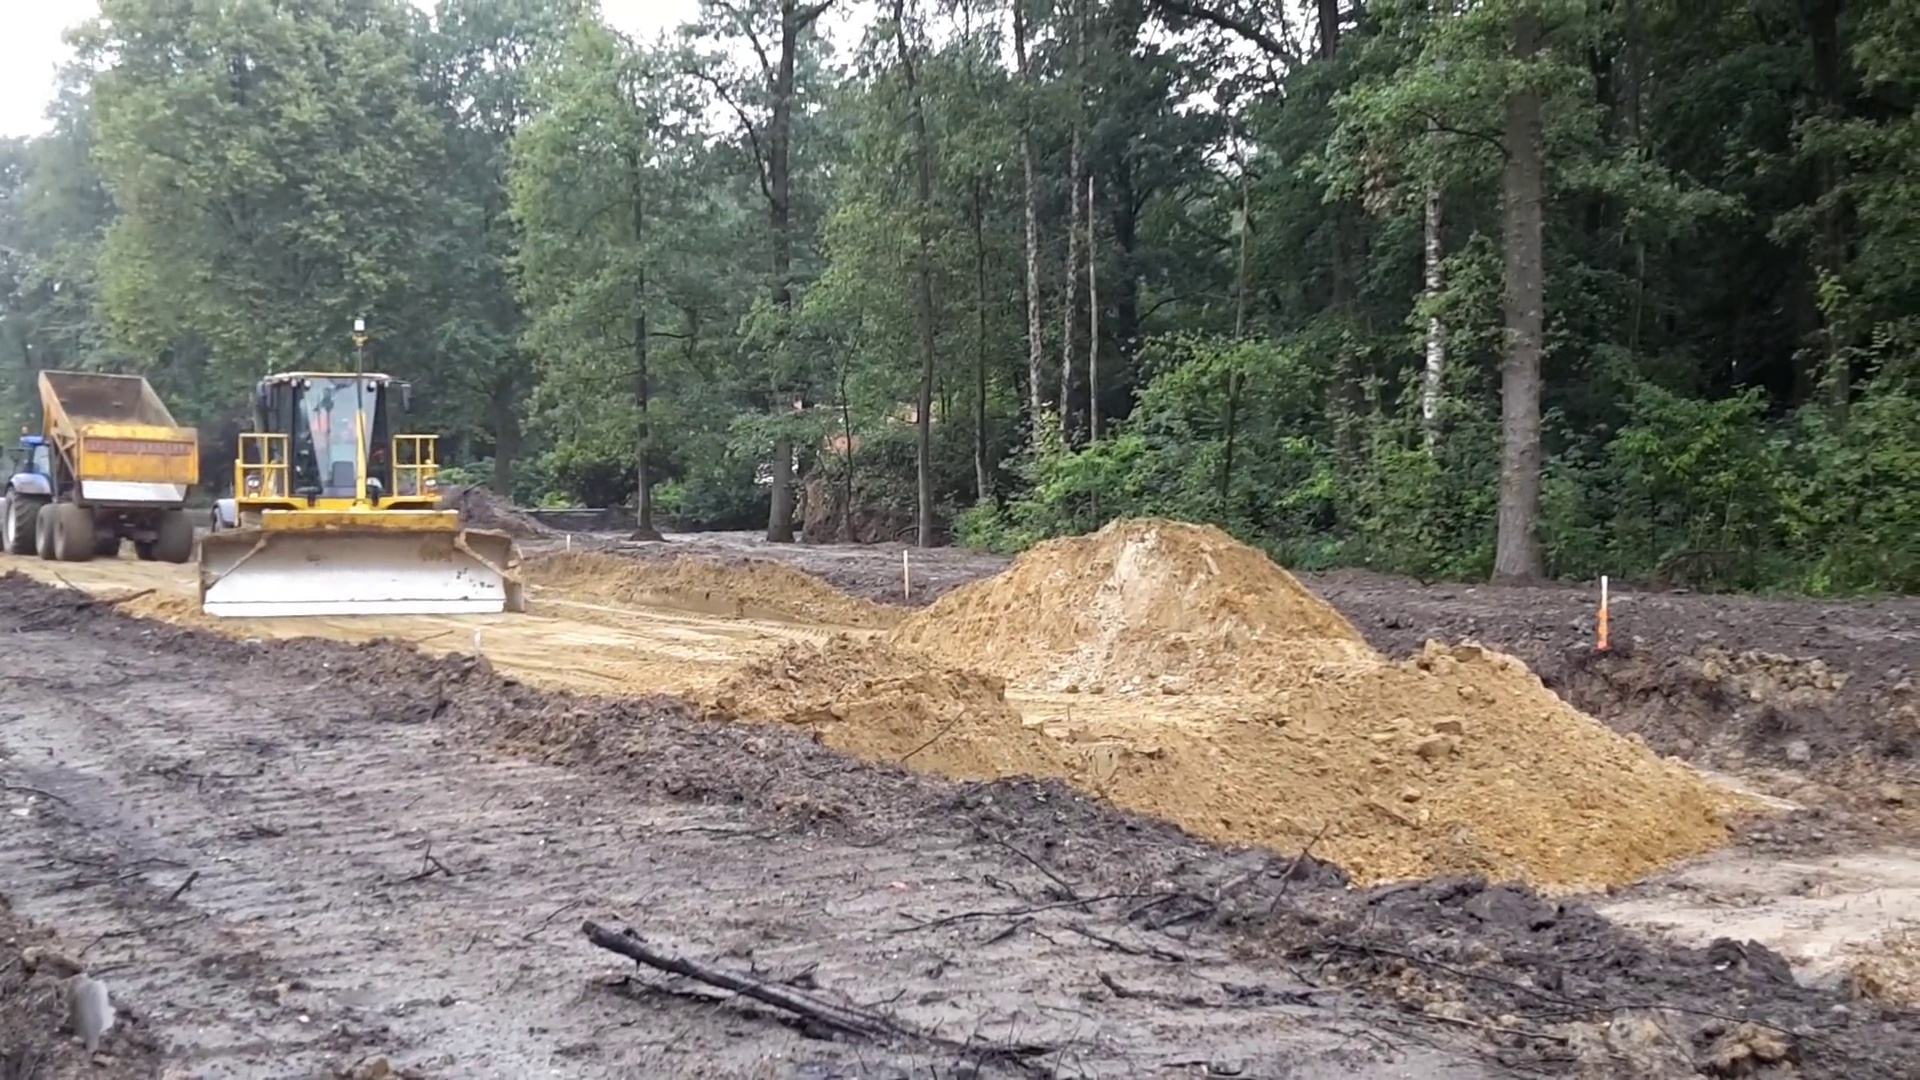bulldozer: (200, 371, 524, 628)
truck: (5, 367, 200, 563)
